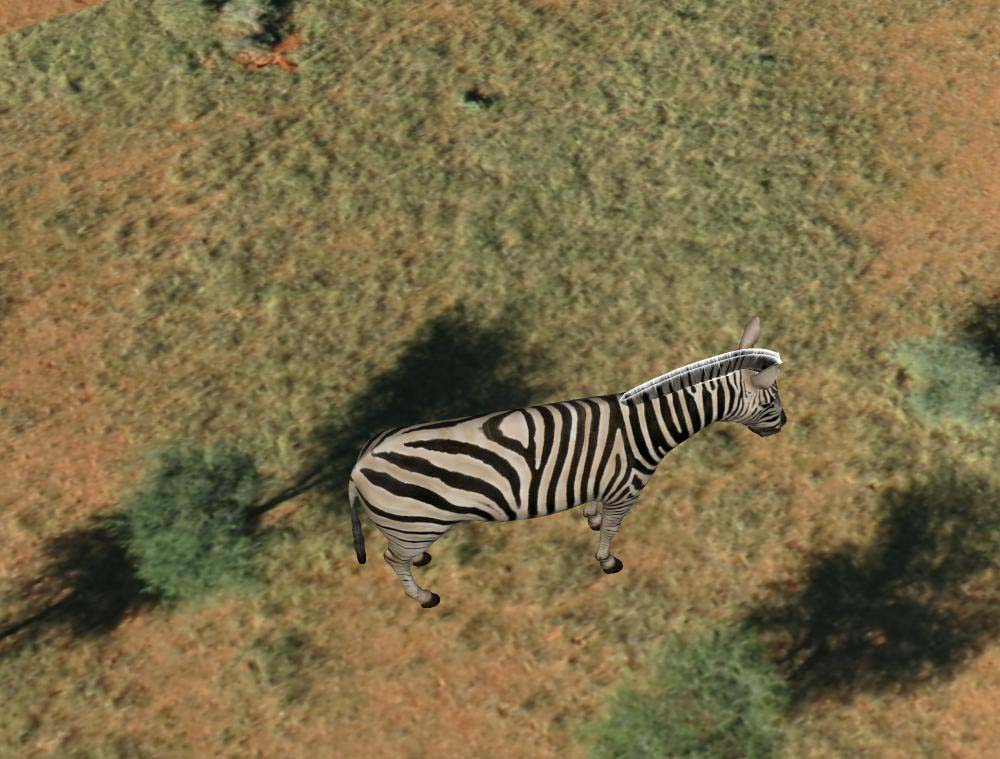zebra: (344, 339, 790, 612)
